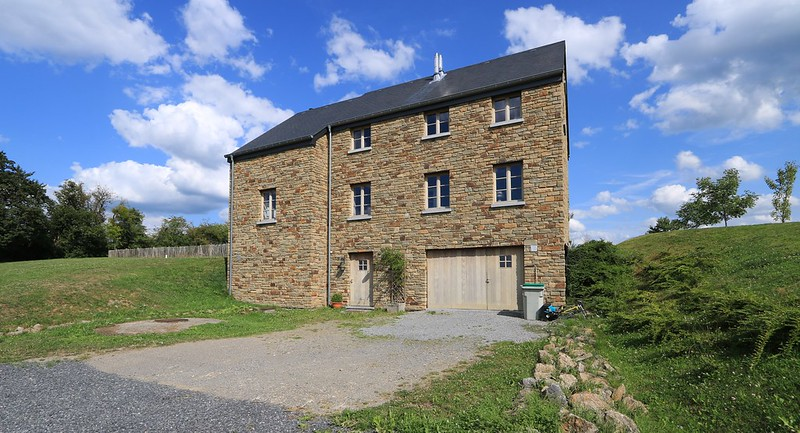low: (223, 35, 571, 324)
